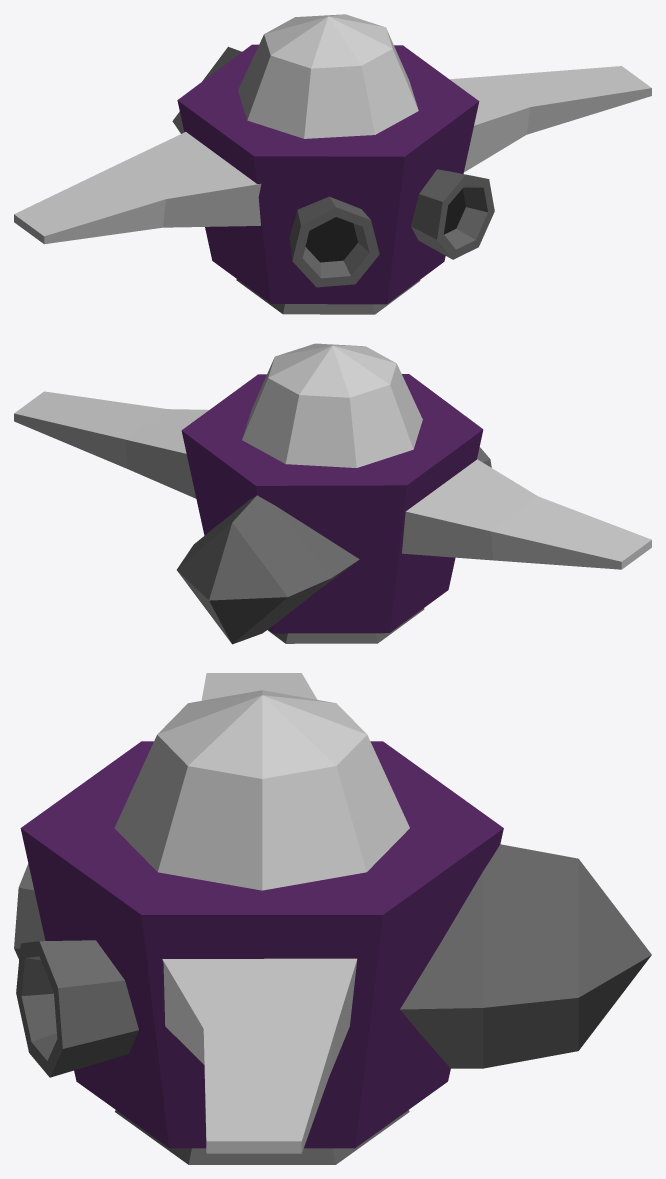
File: Ship.fbx
3 views of the same model, one above another, from view 1: azimuth 30°, elevation 25°; view 2: azimuth 150°, elevation 25°; view 3: azimuth 270°, elevation 25° (orthographic). The views are drawn at different scales.
Parts seen in each view (by area): view 1: Ship; view 2: Ship; view 3: Ship.
Part boxes in pixels (bbox=[...]): Ship: bbox=[14, 14, 651, 314]; Ship: bbox=[14, 343, 651, 644]; Ship: bbox=[14, 673, 651, 1164].
Bounding box in the file's own units: 12.55 × 5.21 × 7.23.
